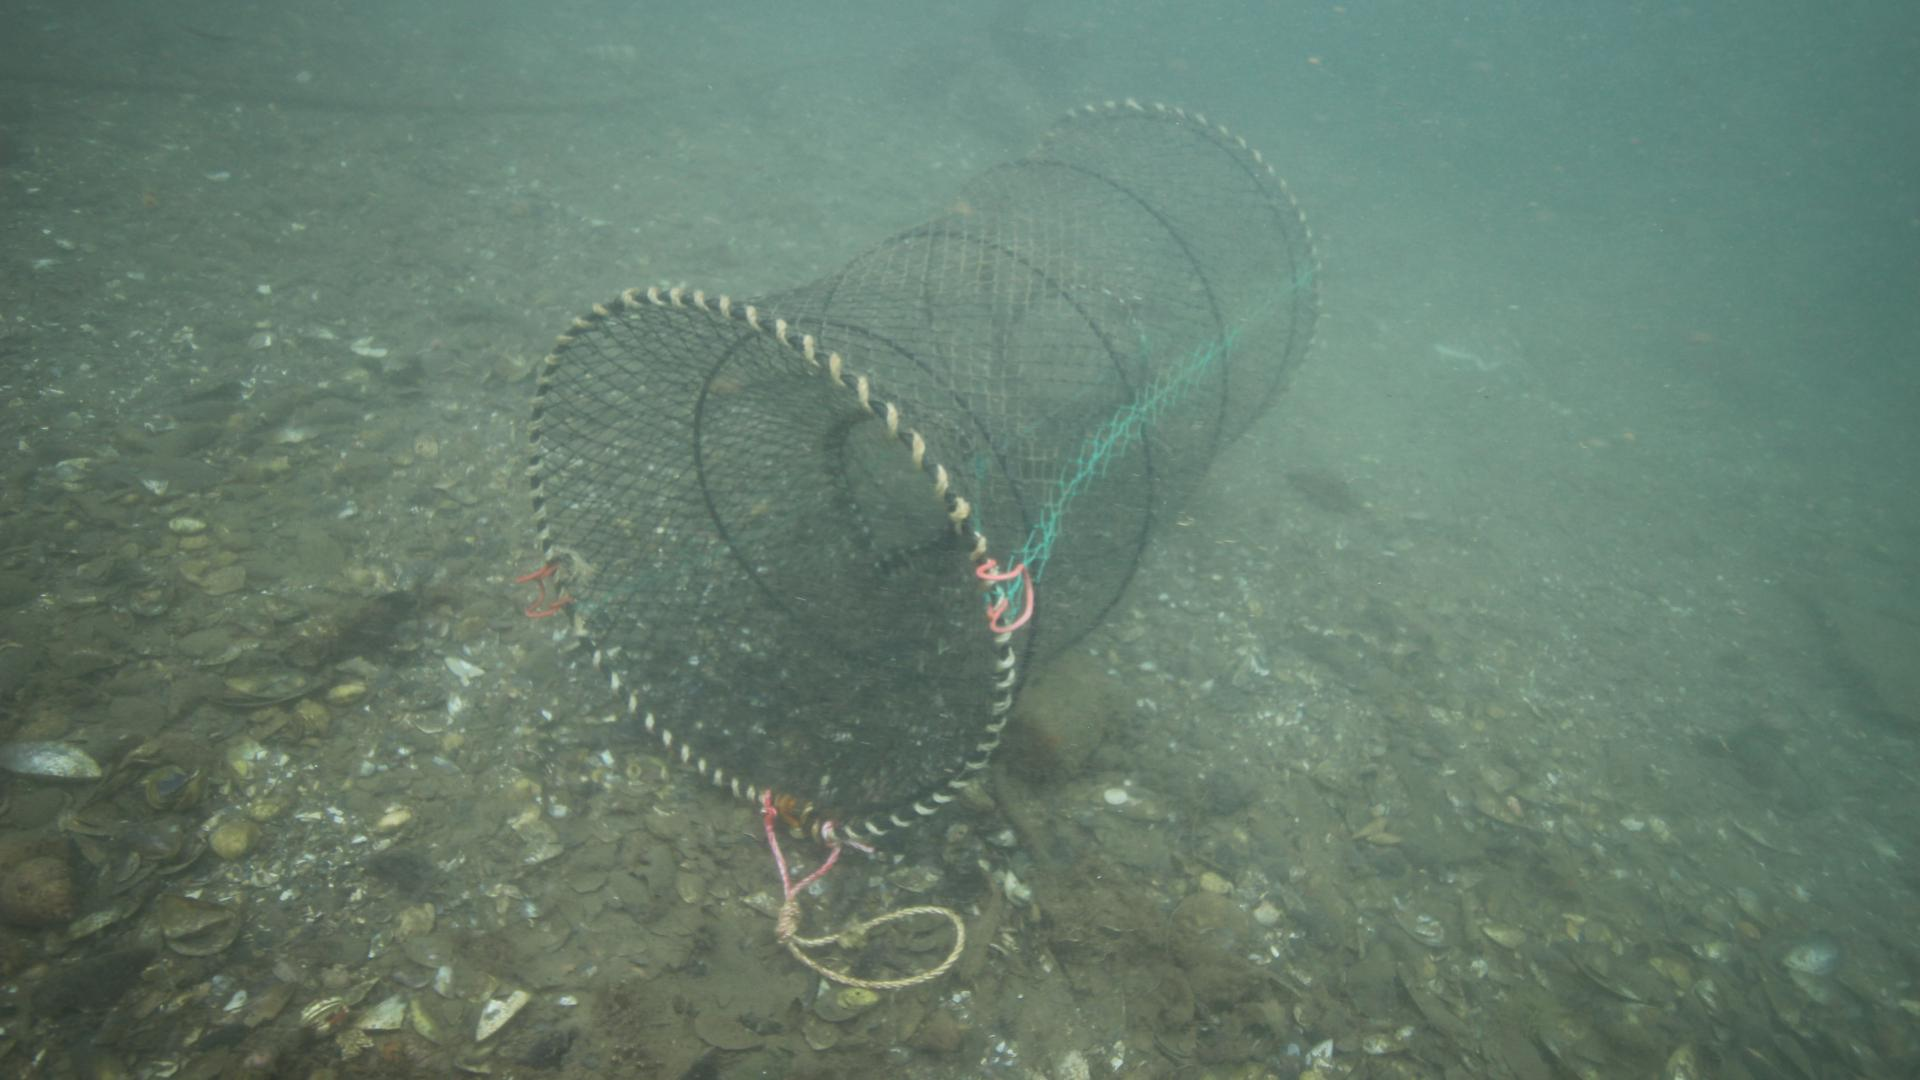bundle of ropes: (757, 799, 972, 998)
spring fish trap: (524, 96, 1320, 851)
